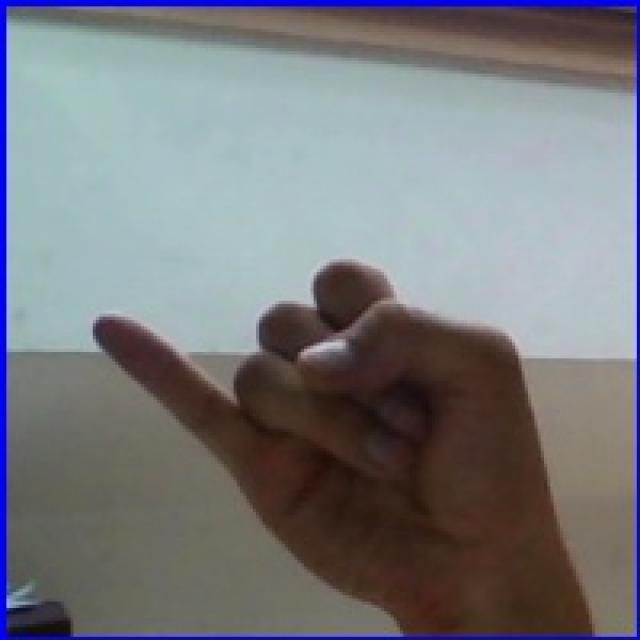J: (23, 191, 587, 601)
